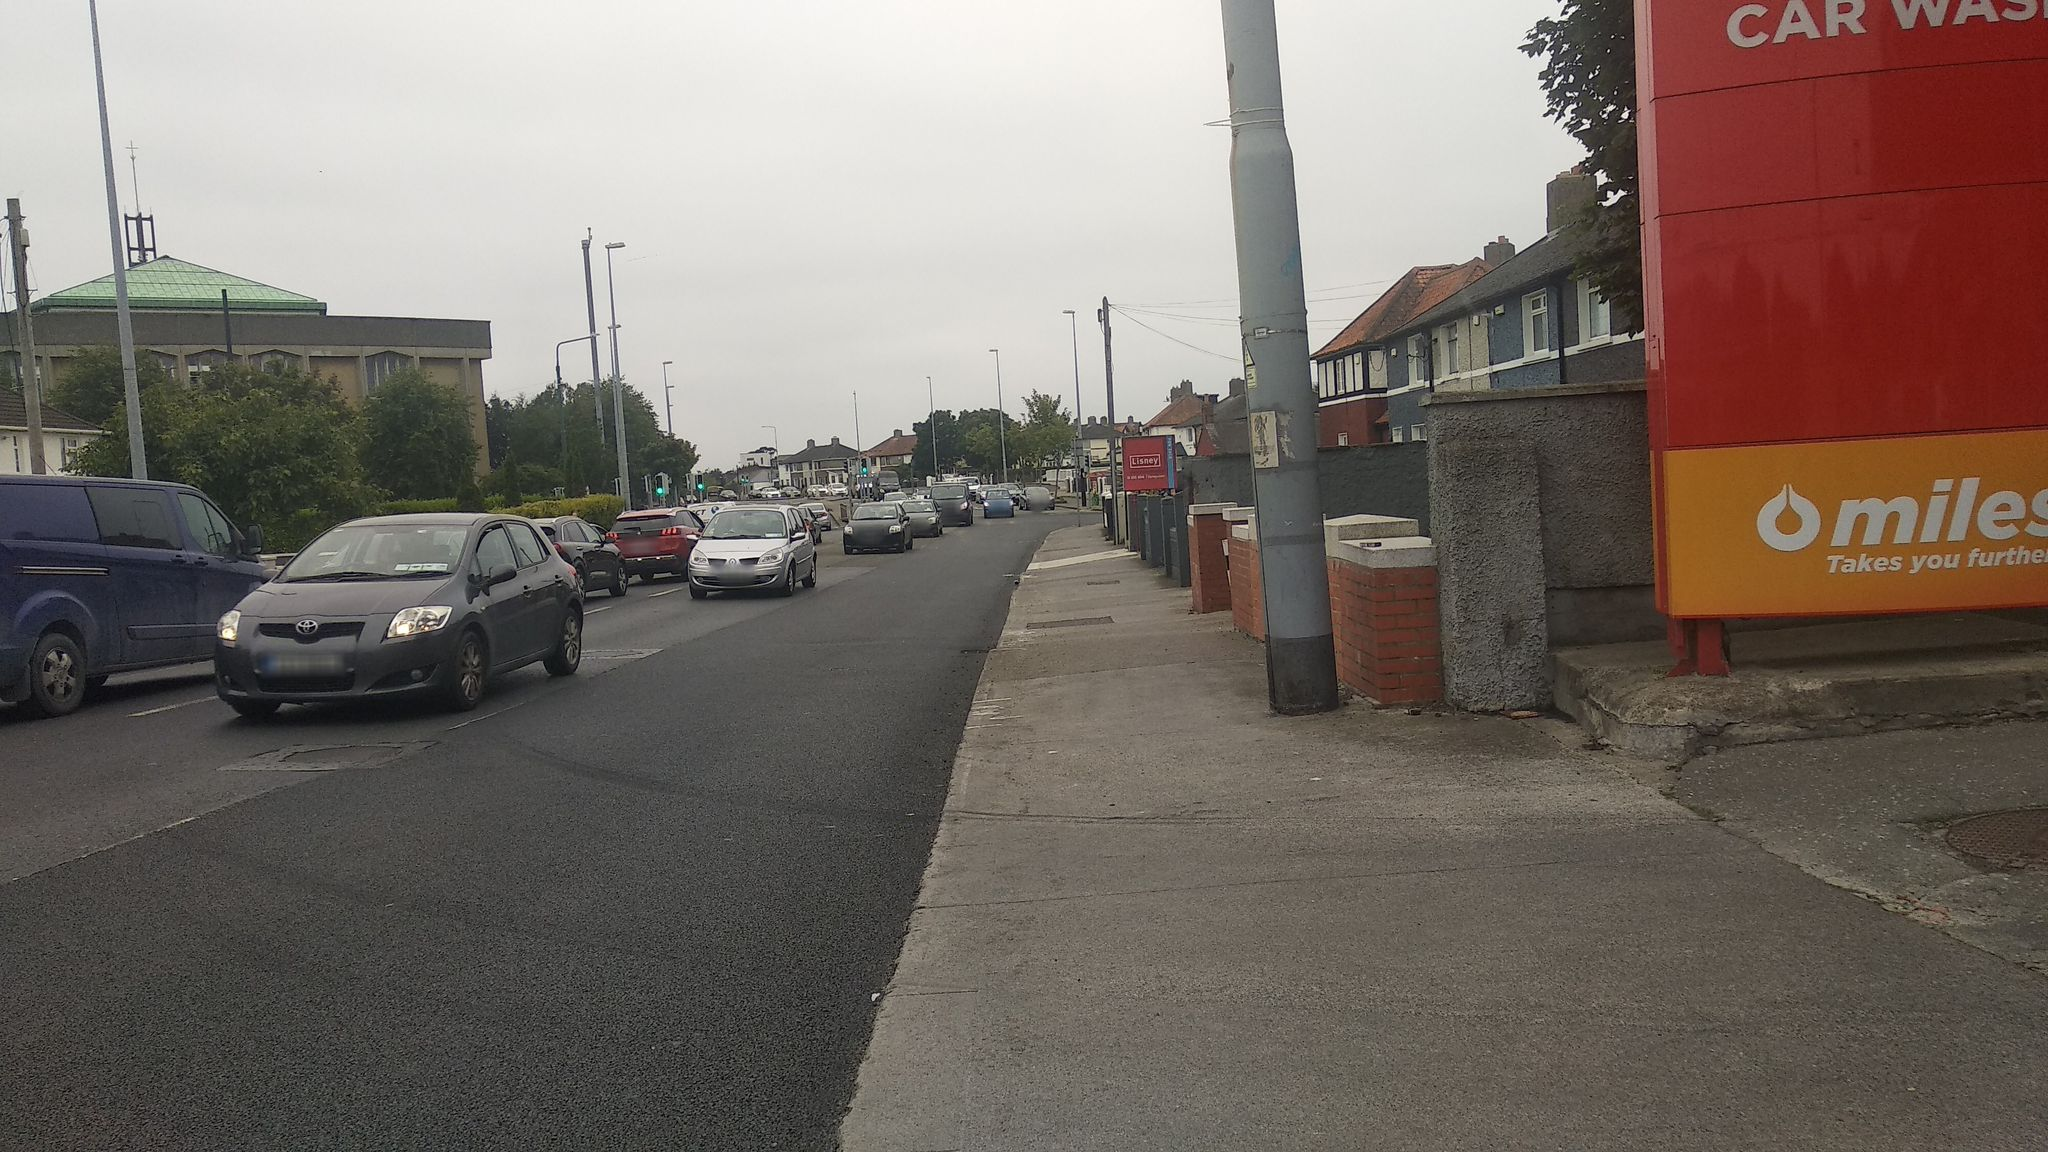property sign: (1106, 421, 1196, 502)
